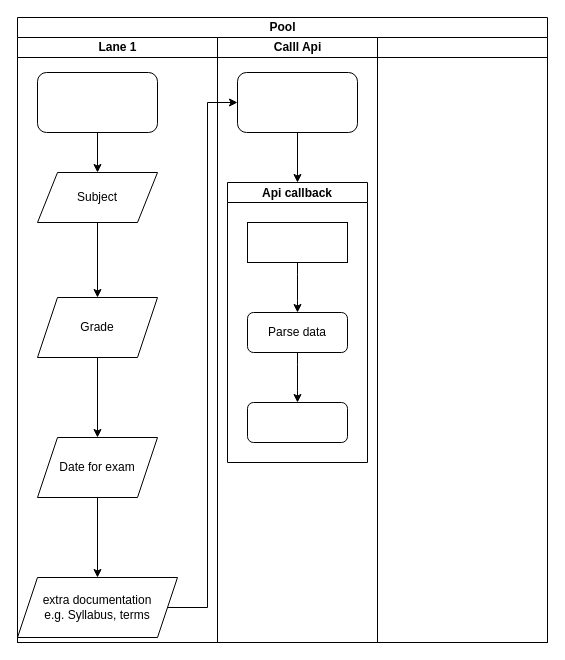
Some shapes in this 565 by 660 pixel diagram are drawn without their labels. Here are the shapes that lost their labels. From the top down, the centre of each, then its label:
At [97,102]: "Userflow".
At [297,102]: "Api call (with prompt)".
At [297,242]: "get Response".
At [462,339]: "Lane 3".
At [297,422]: "send to frontend".
